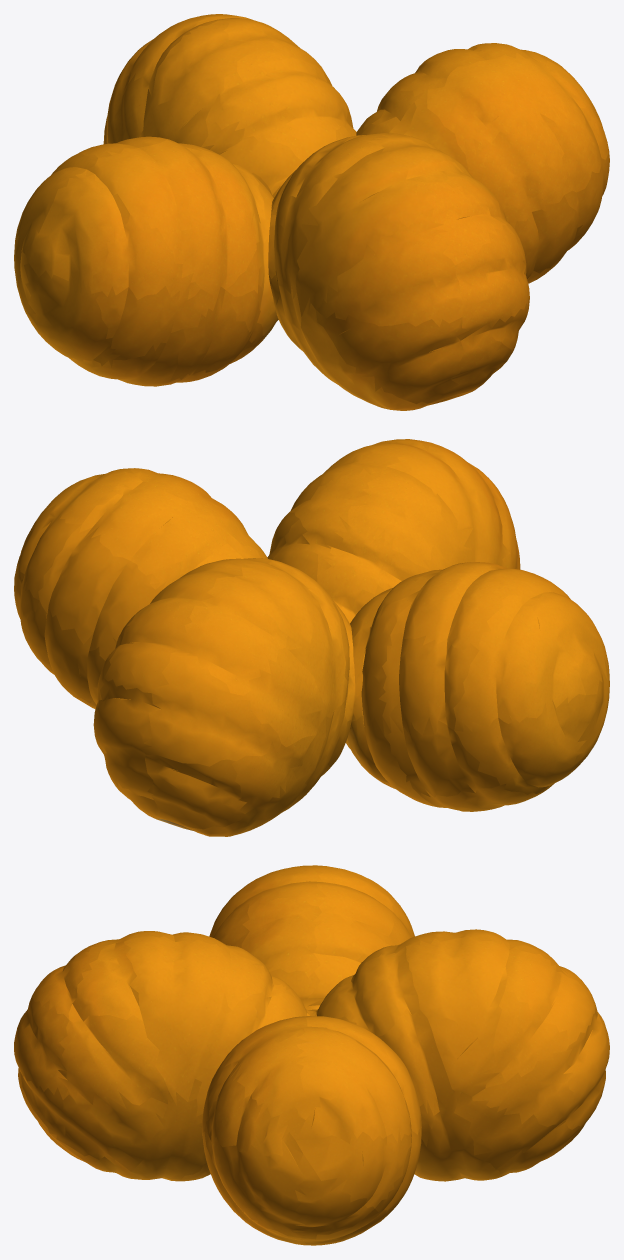
The model's file is ITM_GOLDEN_COCOON_001.glb.
The picture shows the model from 3 angles, top to bottom: view 1: azimuth 30°, elevation 25°; view 2: azimuth 150°, elevation 25°; view 3: azimuth 270°, elevation 25°; orthographic projection. The views are drawn at different scales.
Bounding box in the file's own units: 1.9 × 0.8094 × 1.87.
1 material, 1 textured.
